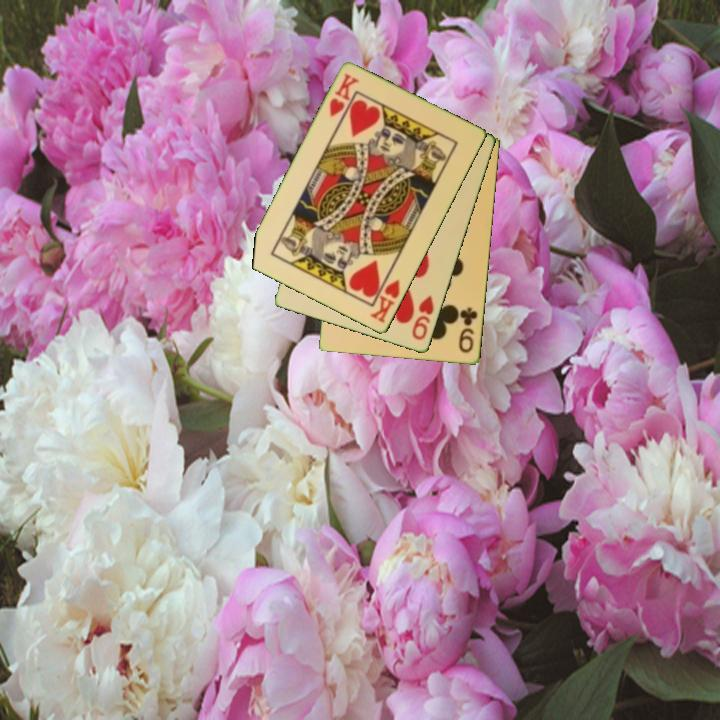9c: (455, 304, 481, 356)
9h: (409, 292, 437, 343)
Kh: (367, 269, 403, 326), (326, 70, 362, 121)
